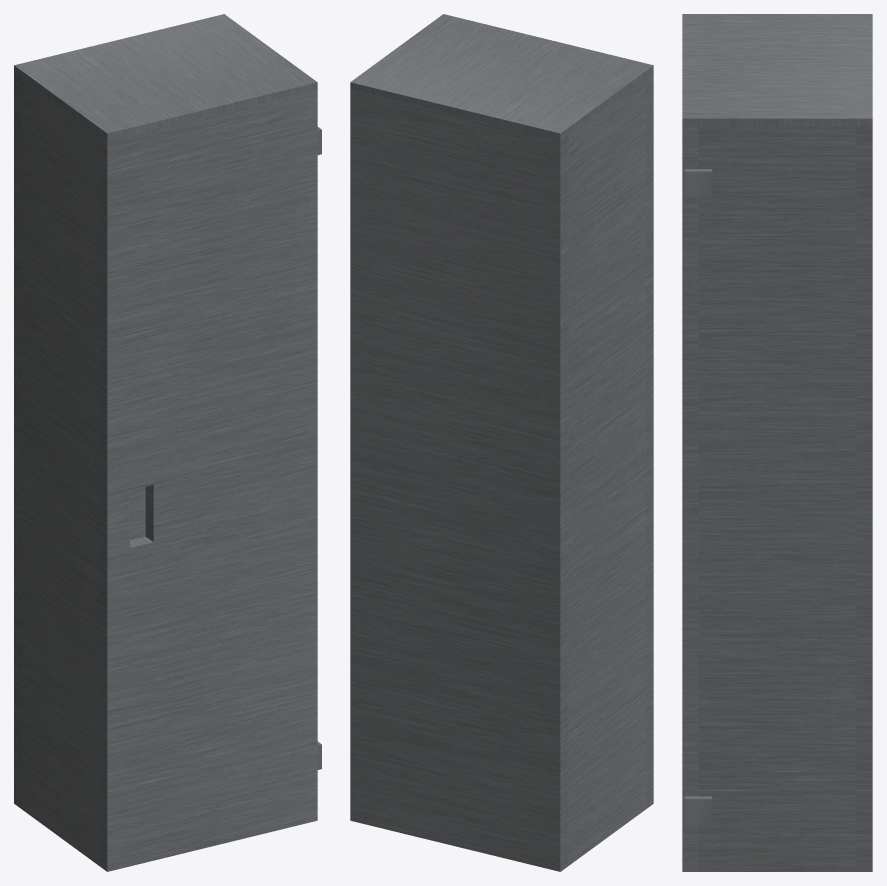
The model's file is kast01.fbx.
The picture shows the model from 3 angles, left to right: view 1: azimuth 30°, elevation 25°; view 2: azimuth 150°, elevation 25°; view 3: azimuth 270°, elevation 25°; orthographic projection. The views are drawn at different scales.
Parts seen in each view (by area): view 1: polySurface1, pCube3, pCube6, pCube4; view 2: pCube4, pCube3, pCube6, polySurface1; view 3: pCube1, pCube6, pCube4, polySurface1, pCube8, pCube9.
Part boxes in pixels (bbox=[...]): polySurface1: bbox=[99, 89, 317, 871]; pCube3: bbox=[22, 78, 99, 865]; pCube6: bbox=[14, 14, 317, 140]; pCube4: bbox=[14, 72, 145, 808]; pCube4: bbox=[350, 89, 568, 871]; pCube3: bbox=[568, 78, 645, 865]; pCube6: bbox=[350, 14, 653, 140]; polySurface1: bbox=[646, 73, 653, 808]; pCube1: bbox=[698, 126, 856, 871]; pCube6: bbox=[682, 14, 872, 125]; pCube4: bbox=[856, 126, 872, 871]; polySurface1: bbox=[682, 126, 698, 871]; pCube8: bbox=[684, 796, 712, 824]; pCube9: bbox=[684, 169, 712, 196].
Bounding box in the file's own units: 64.01 × 209 × 47.96.
1 material, 1 textured.
